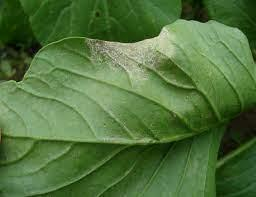Bok-Choy-Diseased: (67, 21, 191, 112)
